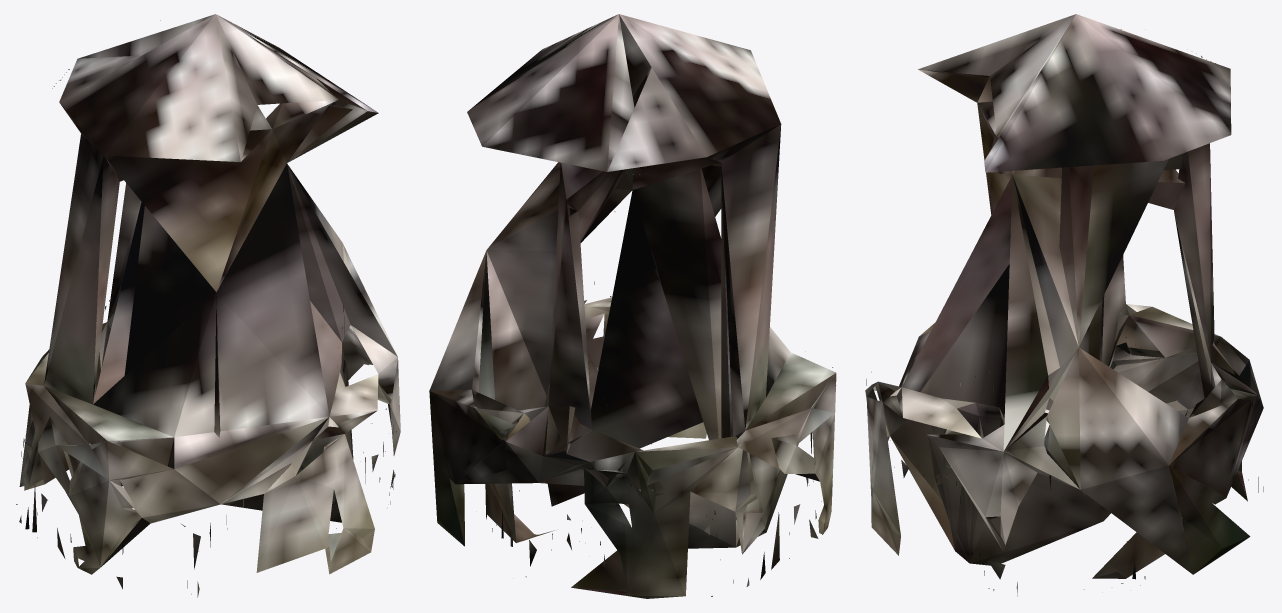
File: ga3_well_lod2.glb
The picture shows the model from 3 angles, left to right: view 1: azimuth 30°, elevation 25°; view 2: azimuth 150°, elevation 25°; view 3: azimuth 270°, elevation 25°; orthographic projection. The views are drawn at different scales.
Visible parts, largest first — view 1: ga3_well_lod2; view 2: ga3_well_lod2; view 3: ga3_well_lod2.
Boxes of the visible parts, left/top/right/bottom form: ga3_well_lod2: left=16, top=14, right=400, bottom=597; ga3_well_lod2: left=429, top=14, right=836, bottom=598; ga3_well_lod2: left=865, top=14, right=1263, bottom=596.
Bounding box in the file's own units: 2.34 × 3.43 × 2.43.
Materials: 1 (1 with a texture image).
